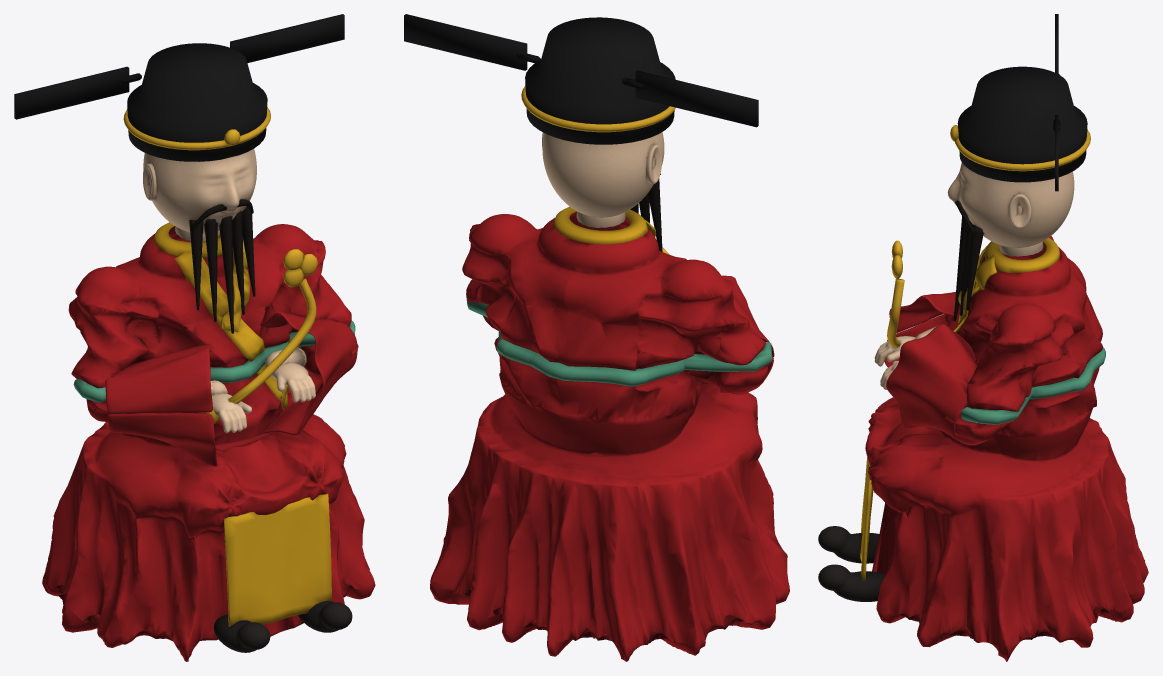
File: bigan.glb
3 views of the same model, side by side, from view 1: azimuth 30°, elevation 25°; view 2: azimuth 150°, elevation 25°; view 3: azimuth 270°, elevation 25° (orthographic). The views are drawn at different scales.
Visible parts, largest first — view 1: BG_Robe, BG_HatMesh, BG_Apron, BG_SleeveL, BG_HeadMesh, BG_Beard, BG_SleeveR, BG_Lapel, BG_Boots, BG_Ruyi, BG_Belt, BG_HatTrim (+3 smaller); view 2: BG_Robe, BG_HatMesh, BG_HeadMesh, BG_Belt, BG_Collar, BG_HatTrim, BG_SleeveL, BG_Beard; view 3: BG_Robe, BG_HatMesh, BG_SleeveR, BG_HeadMesh, BG_Boots, BG_Belt, BG_SleeveL, BG_Beard, BG_Collar, BG_HatTrim, BG_Ruyi, BG_Apron (+3 smaller).
Boxes of the visible parts, x1,y1,x2,y2 form: BG_Robe: [42, 224, 375, 661]; BG_HatMesh: [14, 14, 344, 161]; BG_Apron: [223, 493, 331, 626]; BG_SleeveL: [105, 343, 217, 466]; BG_HeadMesh: [143, 149, 256, 233]; BG_Beard: [189, 199, 255, 333]; BG_SleeveR: [260, 311, 357, 434]; BG_Lapel: [174, 238, 288, 409]; BG_Boots: [213, 600, 352, 652]; BG_Ruyi: [205, 249, 317, 423]; BG_Belt: [73, 320, 355, 403]; BG_HatTrim: [123, 107, 270, 150]; BG_Robe: [430, 211, 789, 661]; BG_HatMesh: [404, 14, 758, 144]; BG_HeadMesh: [542, 132, 664, 217]; BG_Belt: [466, 293, 772, 386]; BG_Collar: [553, 206, 647, 244]; BG_HatTrim: [521, 86, 675, 132]; BG_SleeveL: [696, 275, 774, 394]; BG_Beard: [630, 174, 662, 251]; BG_Robe: [865, 236, 1148, 661]; BG_HatMesh: [957, 14, 1087, 191]; BG_SleeveR: [886, 324, 987, 445]; BG_HeadMesh: [947, 163, 1074, 247]; BG_Boots: [818, 526, 884, 601]; BG_Belt: [960, 347, 1105, 424]; BG_SleeveL: [884, 292, 955, 367]; BG_Beard: [953, 200, 983, 321]; BG_Collar: [984, 238, 1060, 273]; BG_HatTrim: [950, 125, 1090, 171]; BG_Ruyi: [887, 240, 904, 347]; BG_Apron: [860, 457, 873, 581].
Bounding box in the file's own units: 1.28 × 1.99 × 1.16.
